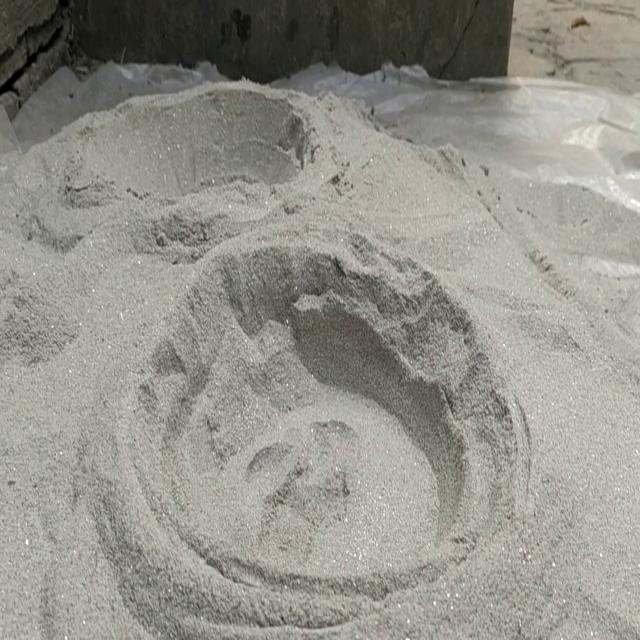C20: (135, 297, 511, 579), (88, 87, 311, 198)
